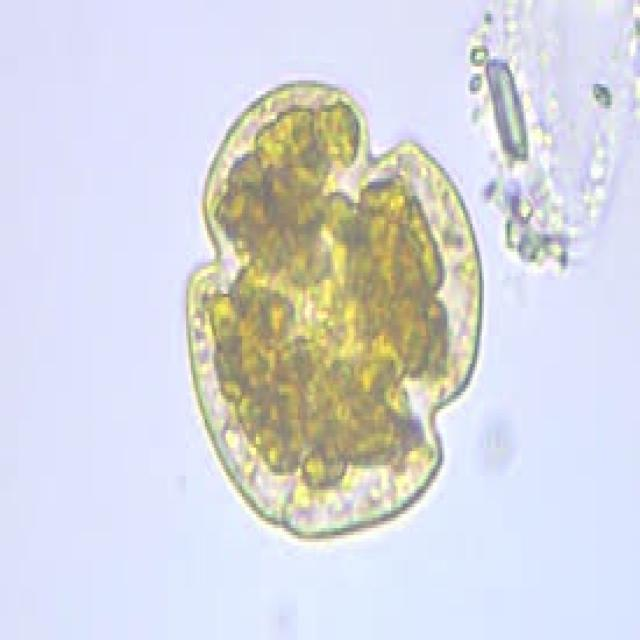Karenia: (180, 74, 491, 550)
